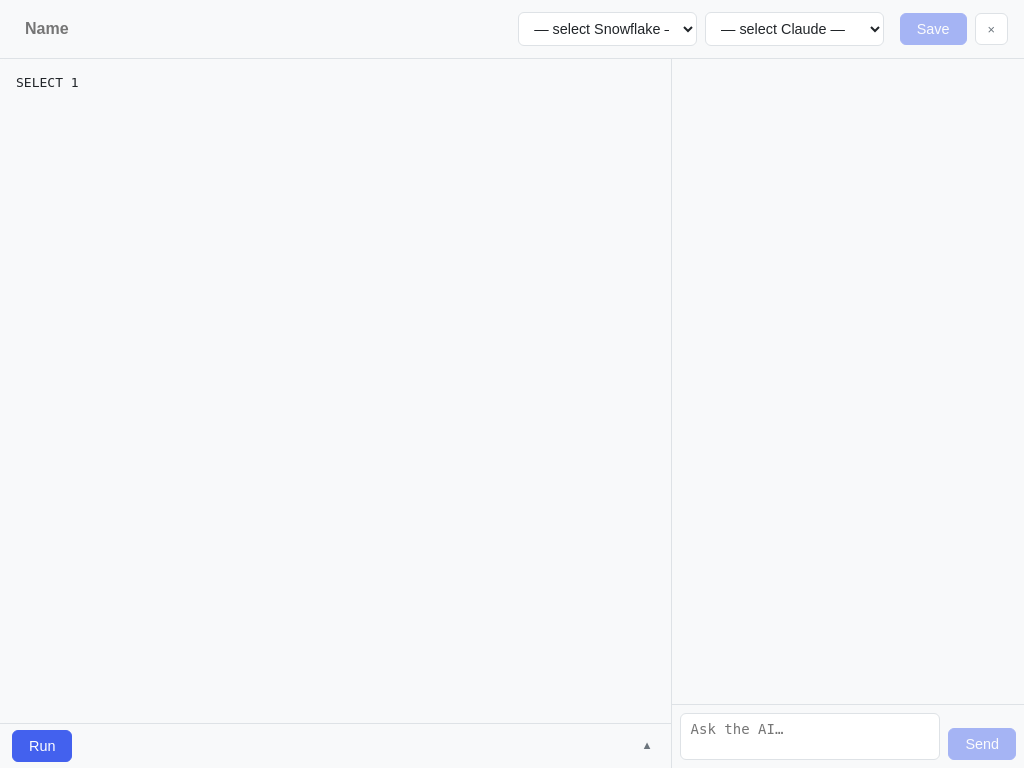
it: DatasetDialog › should render results table with column headers and rows on success
What coordinates should you click on to do the following:
click the button "Run"
I would click on:
 (42, 746)
Its box is [12, 730, 72, 762].
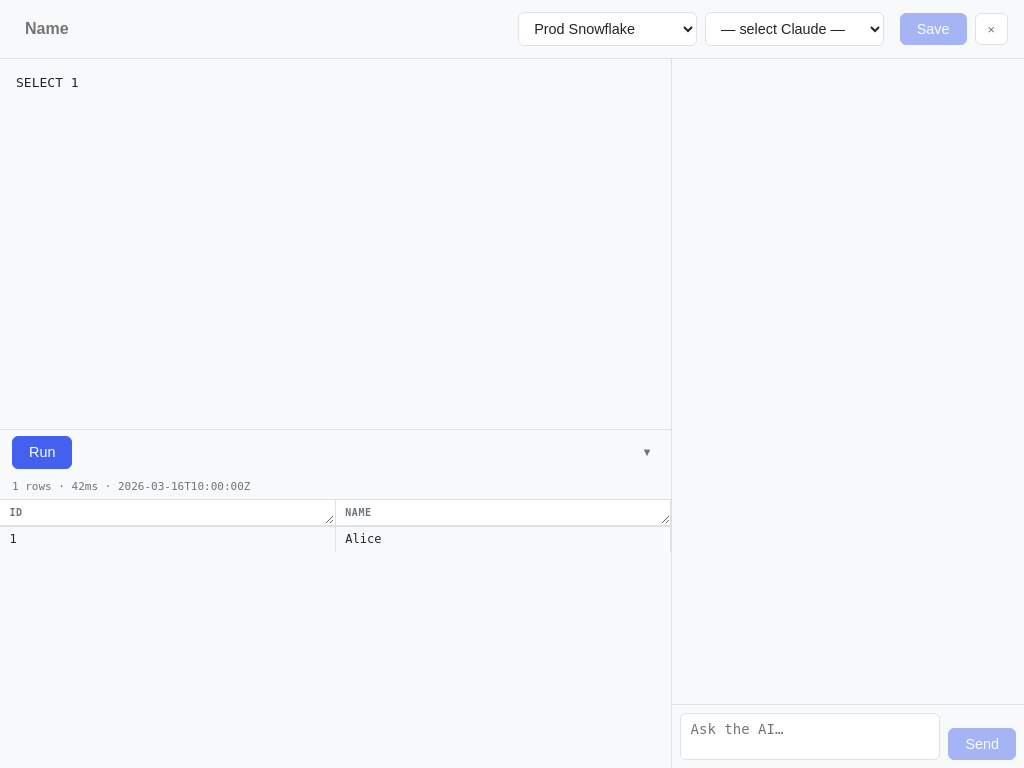
expect the table is shown: met, box [0, 500, 671, 552]
expect the column heading "id" is shown: met, box [0, 500, 335, 526]
expect the column heading "name" is shown: met, box [335, 500, 671, 526]
